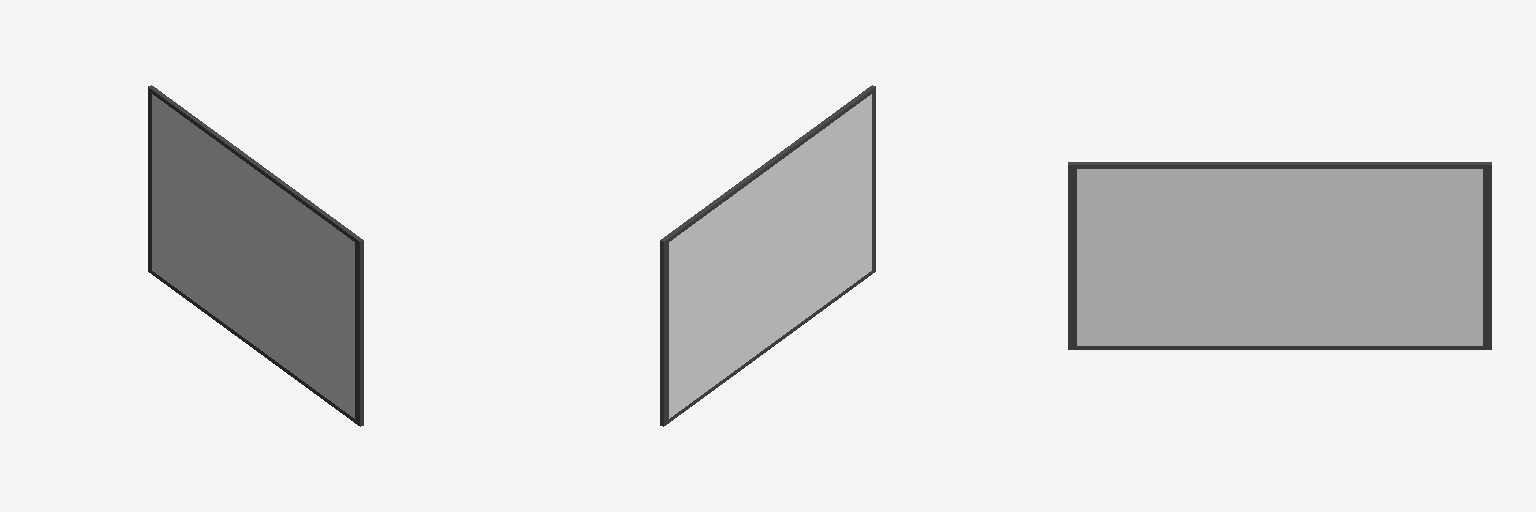
File: vetro1.obj
The picture shows the model from 3 angles: view 1: azimuth 30°, elevation 25°; view 2: azimuth 150°, elevation 25°; view 3: azimuth 270°, elevation 25°; orthographic projection.
Visible parts, largest first — view 1: foto_Cube.002, vetro_Cube.001; view 2: foto_Cube.002, vetro_Cube.001; view 3: vetro_Cube.001.
Part boxes in pixels (x1,y1,x2,y2): foto_Cube.002: (148,85,363,425); vetro_Cube.001: (150,86,363,426); foto_Cube.002: (660,85,875,426); vetro_Cube.001: (660,86,875,425); vetro_Cube.001: (1068,163,1491,349).
Bounding box in the file's own units: 0.0715 × 2.71 × 5.65.